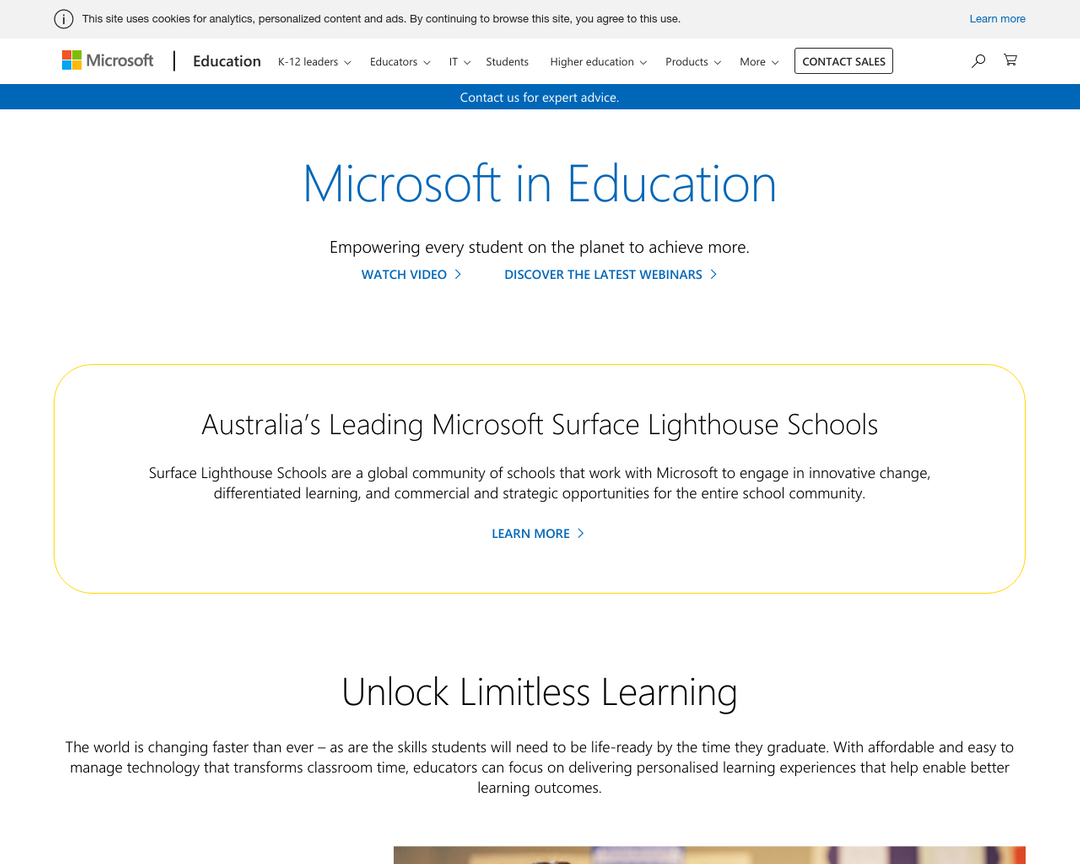Microsoft: (57, 47, 160, 75)
